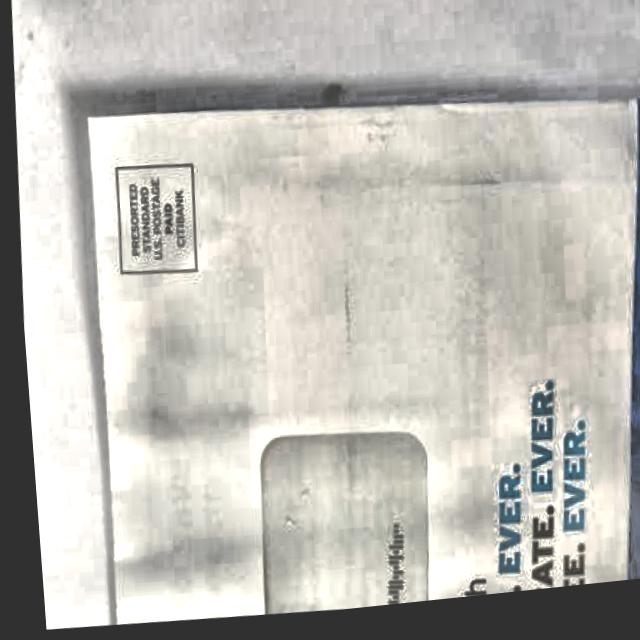Paper: (51, 44, 640, 636)
